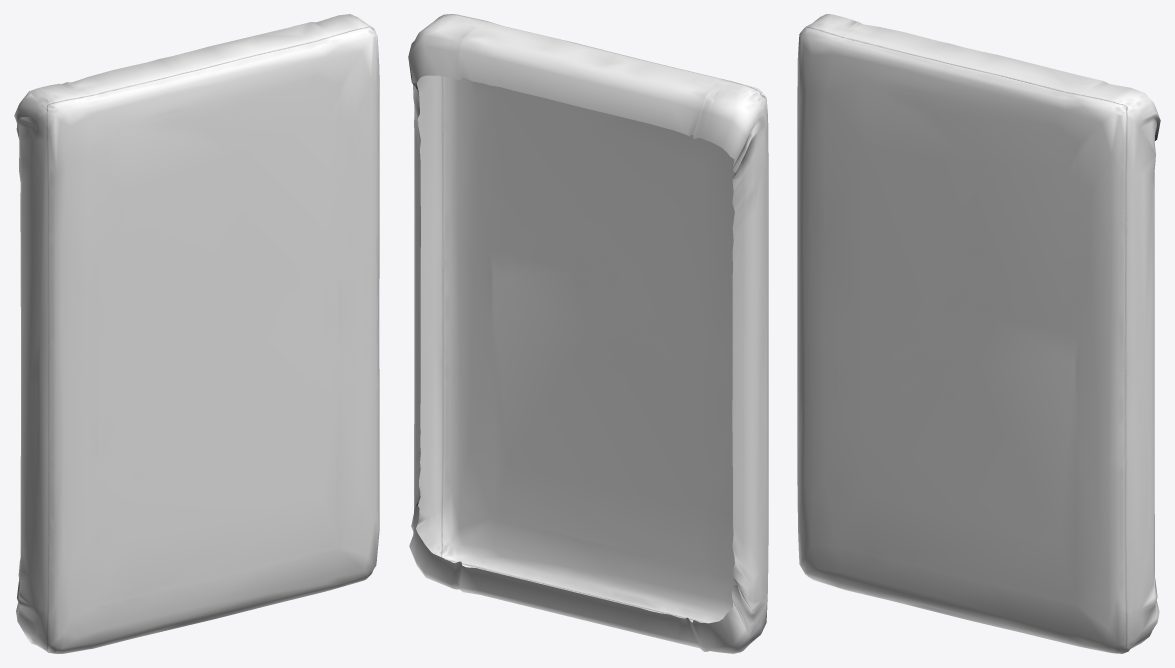
The model's file is BedMattress_12_BedMattress_12_1.obj.
3 views of the same model, side by side, from view 1: azimuth 30°, elevation 25°; view 2: azimuth 150°, elevation 25°; view 3: azimuth 330°, elevation 25° (orthographic).
Parts seen in each view (by area): view 1: BedMattress_12; view 2: BedMattress_12; view 3: BedMattress_12.
Boxes of the visible parts, left/top/right/bottom form: BedMattress_12: left=14, top=14, right=379, bottom=653; BedMattress_12: left=408, top=14, right=768, bottom=653; BedMattress_12: left=797, top=14, right=1160, bottom=653.
Bounding box in the file's own units: 1.3 × 2.03 × 0.2451.
